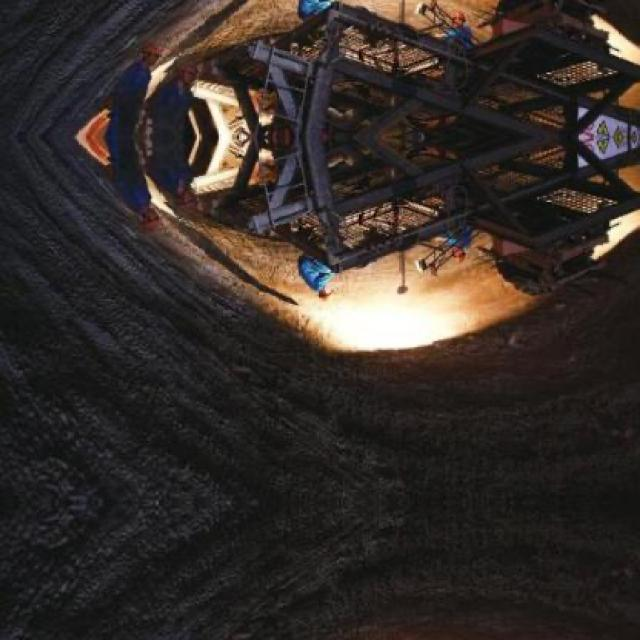con casco: (121, 199, 170, 252), (168, 185, 185, 221)
